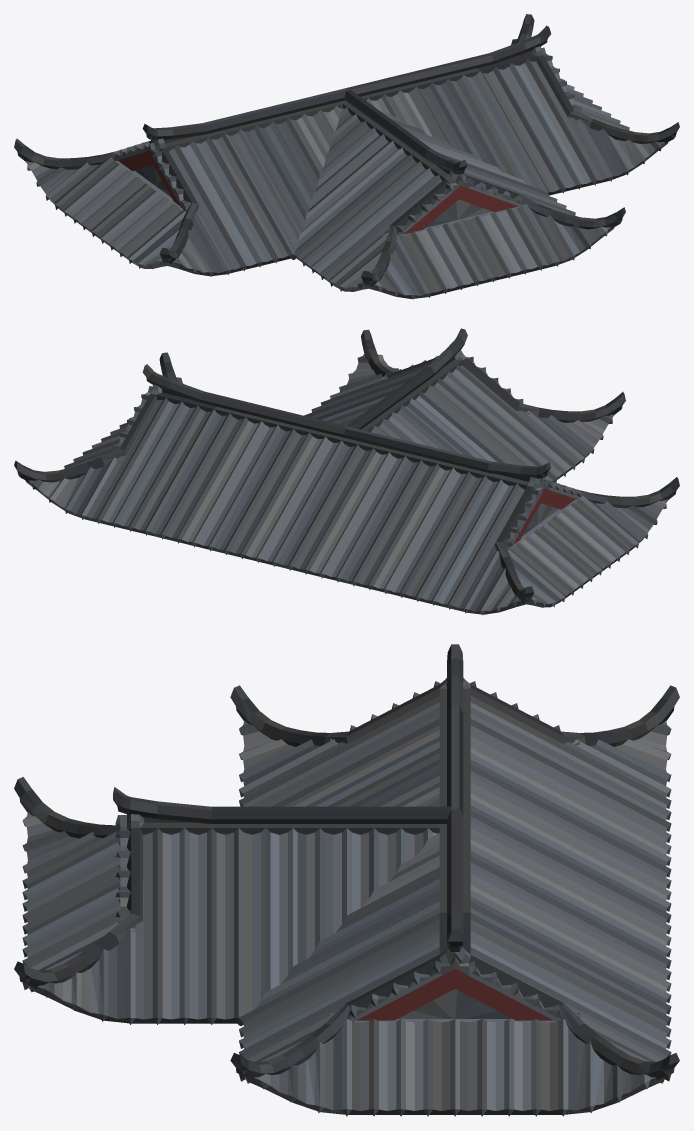
The model's file is BuildingA-T_Roof.fbx.
3 views of the same model, one above another, from view 1: azimuth 30°, elevation 25°; view 2: azimuth 150°, elevation 25°; view 3: azimuth 270°, elevation 25° (orthographic). The views are drawn at different scales.
Parts seen in each view (by area): view 1: BuildingA-T_Roof; view 2: BuildingA-T_Roof; view 3: BuildingA-T_Roof.
Part boxes in pixels (x1,y1,x2,y2): BuildingA-T_Roof: [14, 14, 679, 299]; BuildingA-T_Roof: [14, 328, 679, 615]; BuildingA-T_Roof: [14, 644, 679, 1116].
Bounding box in the file's own units: 2039 × 376 × 1539.
